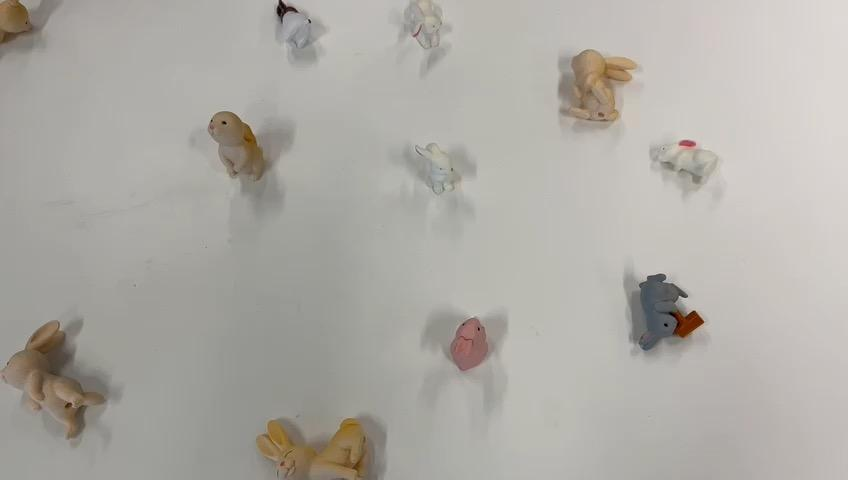pet: (0, 314, 116, 423), (255, 408, 370, 480), (563, 30, 637, 138), (626, 261, 708, 353), (387, 138, 491, 208), (201, 101, 275, 193), (662, 124, 726, 204), (432, 310, 491, 388), (392, 0, 448, 61), (270, 0, 316, 55)
